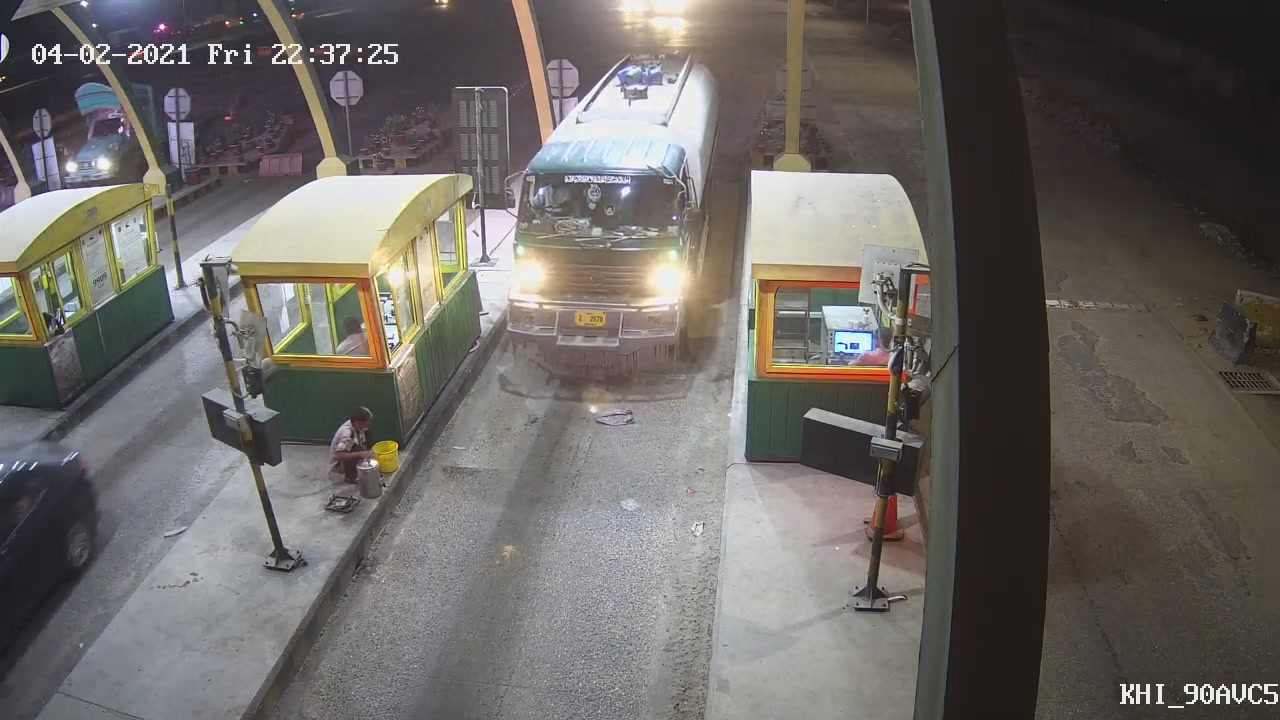F6: (491, 150, 708, 383)
